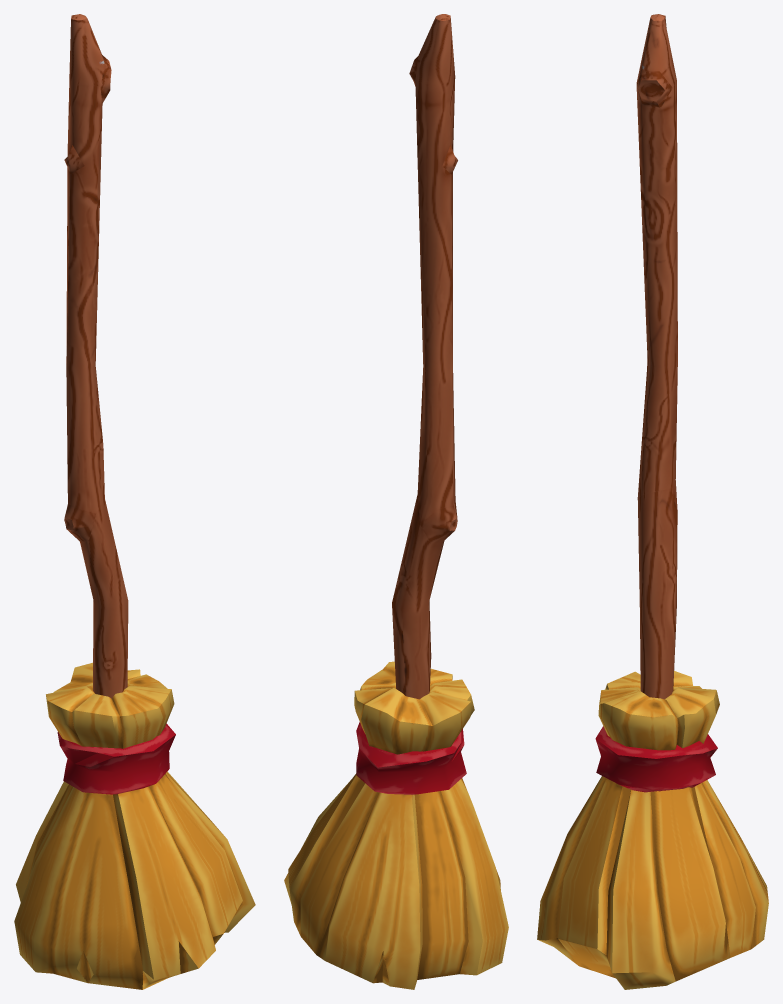
File: Metla_Low_2.fbx
3 renders of one model, left to right at view 1: azimuth 30°, elevation 25°; view 2: azimuth 150°, elevation 25°; view 3: azimuth 270°, elevation 25°, orthographic. The views are drawn at different scales.
Visible parts, largest first — view 1: LP_3_Broom_low; view 2: LP_3_Broom_low; view 3: LP_3_Broom_low.
Part boxes in pixels (<box>): LP_3_Broom_low: <box>14,14,255,989</box>; LP_3_Broom_low: <box>284,14,508,989</box>; LP_3_Broom_low: <box>537,14,768,989</box>.
Bounding box in the file's own units: 122 × 513 × 117.
